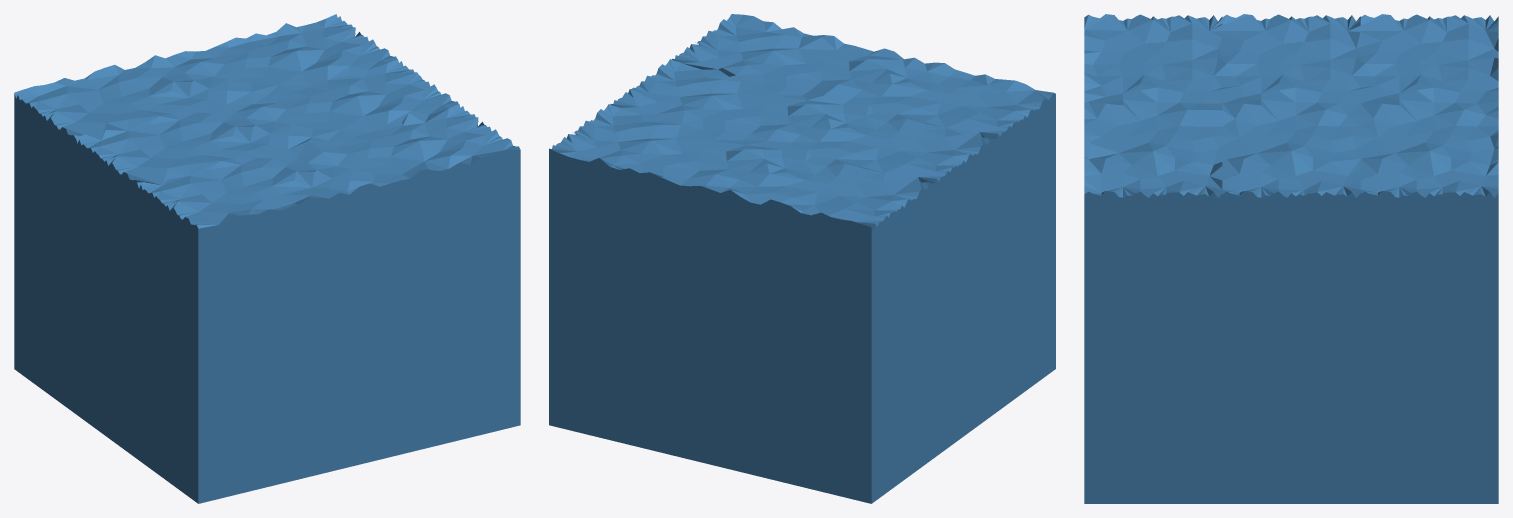
Rendered from TileImportWater.fbx.
The picture shows the model from 3 angles, left to right: view 1: azimuth 30°, elevation 25°; view 2: azimuth 150°, elevation 25°; view 3: azimuth 270°, elevation 25°; orthographic projection. The views are drawn at different scales.
Parts seen in each view (by area): view 1: Cube.019; view 2: Cube.019; view 3: Cube.019.
Boxes of the visible parts, bbox=[...] form: Cube.019: bbox=[14, 14, 520, 503]; Cube.019: bbox=[549, 14, 1055, 503]; Cube.019: bbox=[1084, 14, 1498, 503].
Size of the model in its own units: 100 by 83.19 by 99.
